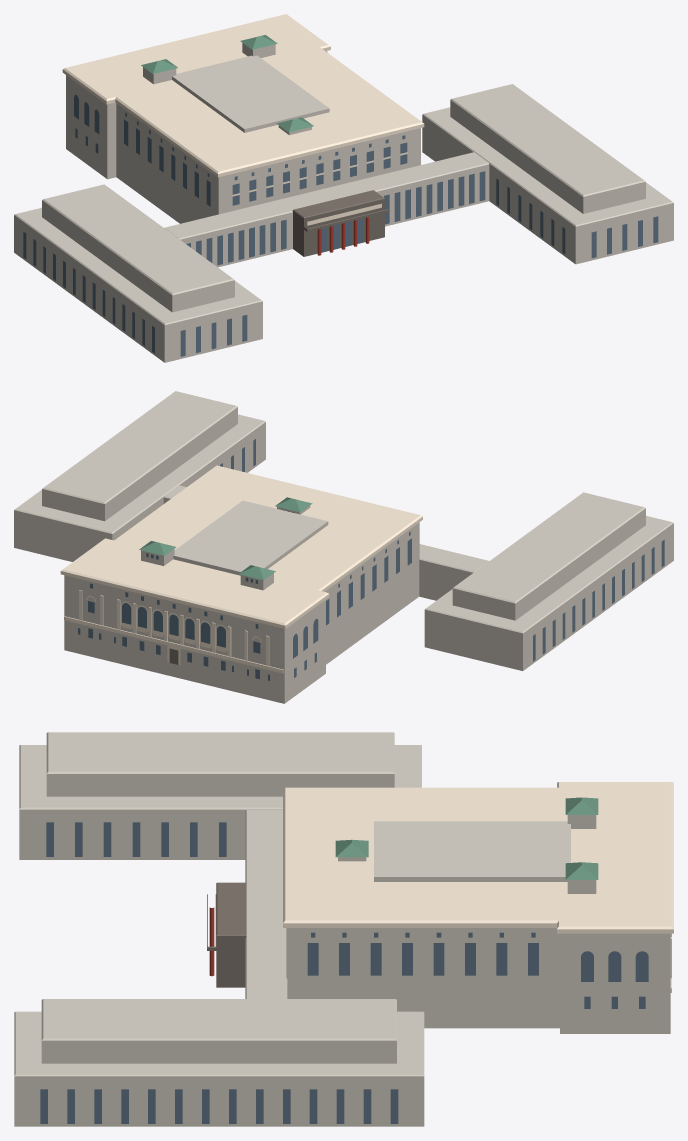
The model's file is det-detroit-public-library.glb.
3 views of the same model, one above another, from view 1: azimuth 30°, elevation 25°; view 2: azimuth 150°, elevation 25°; view 3: azimuth 270°, elevation 25° (orthographic). The views are drawn at different scales.
Parts seen in each view (by area): view 1: Detroit Public Library; view 2: Detroit Public Library; view 3: Detroit Public Library.
Part boxes in pixels (x1,y1,x2,y2): Detroit Public Library: [14, 14, 673, 362]; Detroit Public Library: [14, 391, 673, 703]; Detroit Public Library: [14, 732, 673, 1126].
Bounding box in the file's own units: 143 × 26.4 × 121.
